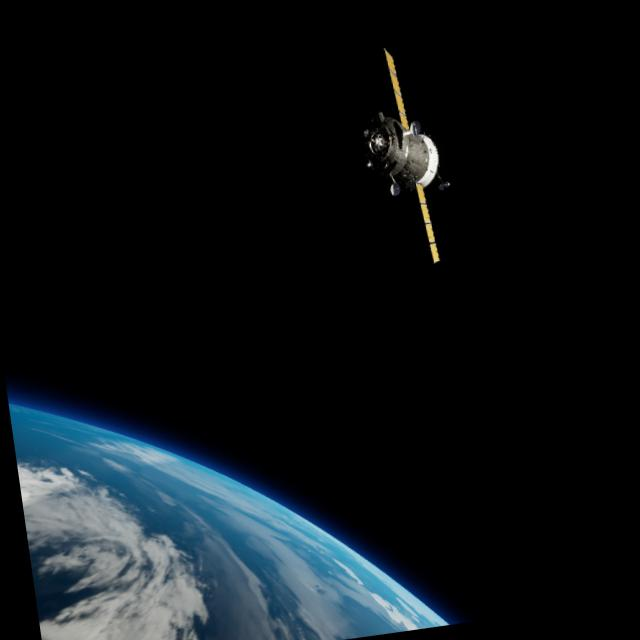Satellites revolving around earth: (9, 344, 450, 640), (346, 39, 462, 274)
